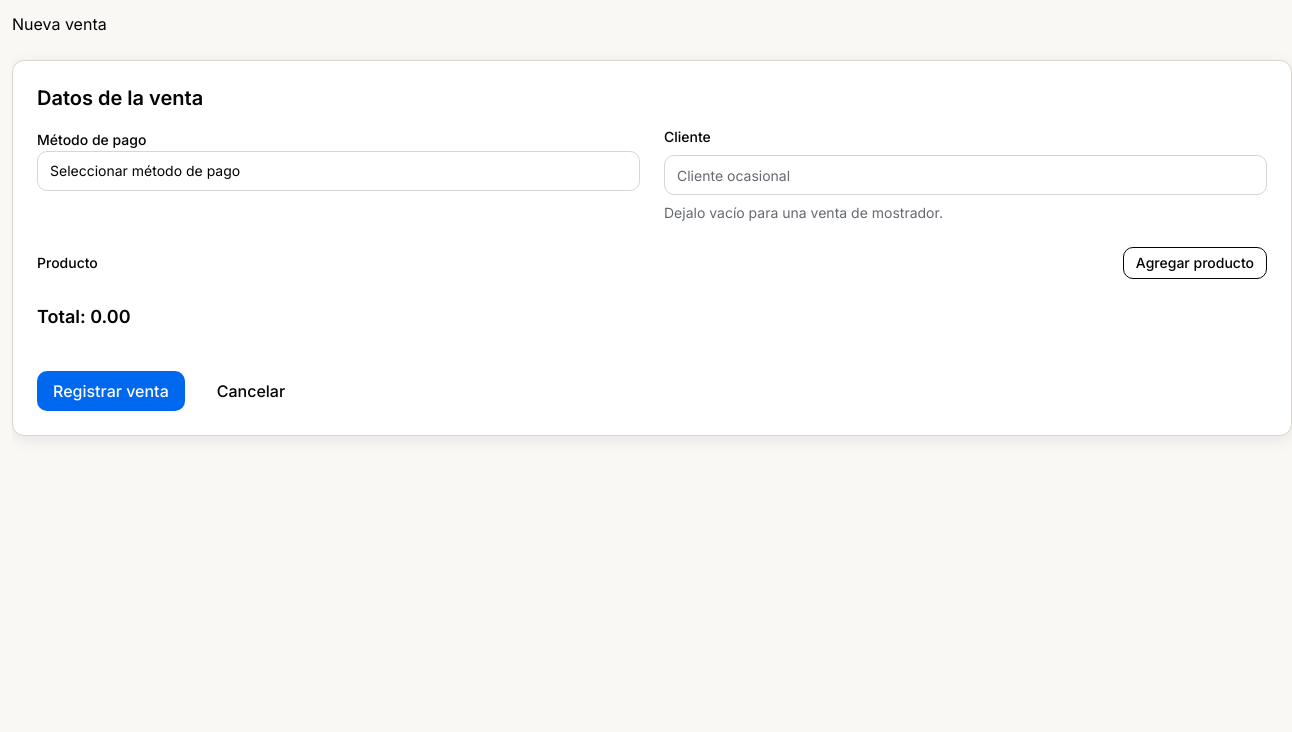
Test: CheckoutPage › S14: maps INSUFFICIENT_STOCK with details to a rich message naming the product
Expected: the button "Agregar producto" is enabled, [1123,247,1267,279]
Select "Efectivo" in the dropdown labelled "Método de pago": (338, 171) [37,151,640,191]
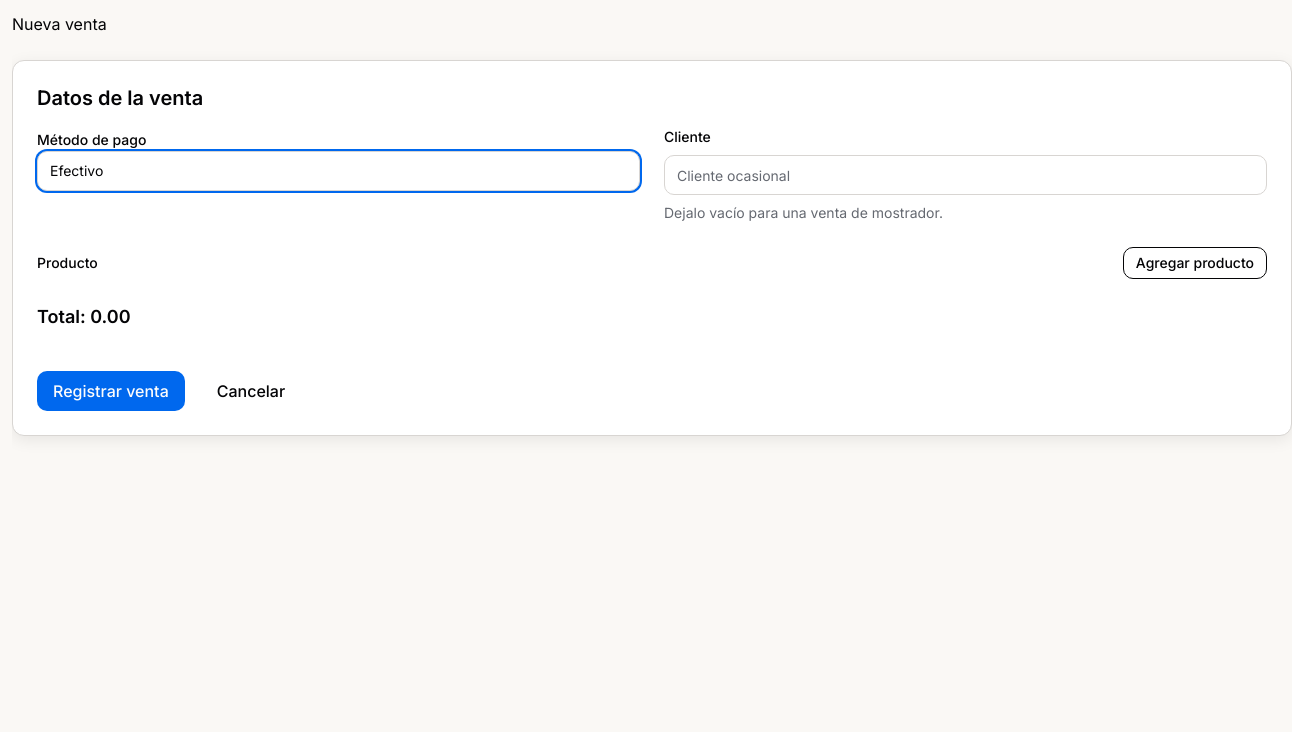
Click the button "Agregar producto": (1195, 263) [1123,247,1267,279]
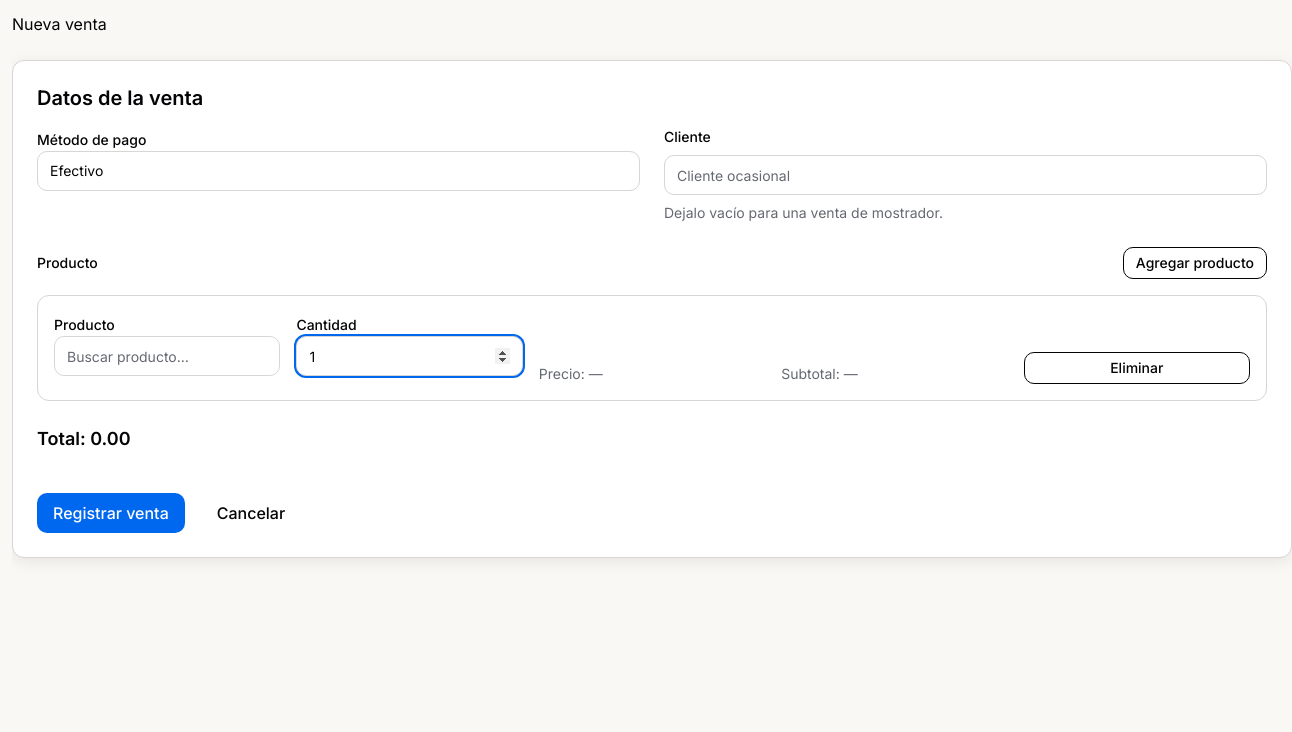
Click the dropdown labelled "Producto": (167, 356) [54,336,280,376]
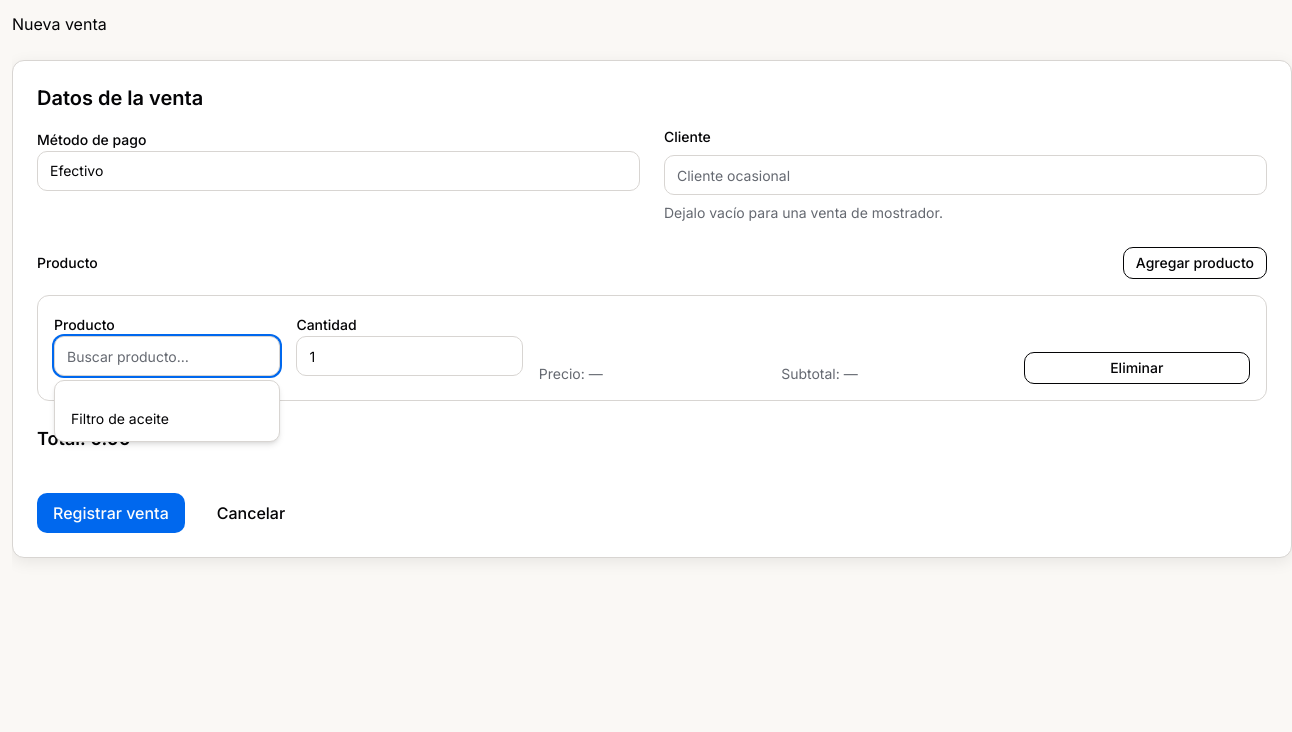
Click the option "Filtro de aceite": (120, 418) [71,410,169,427]
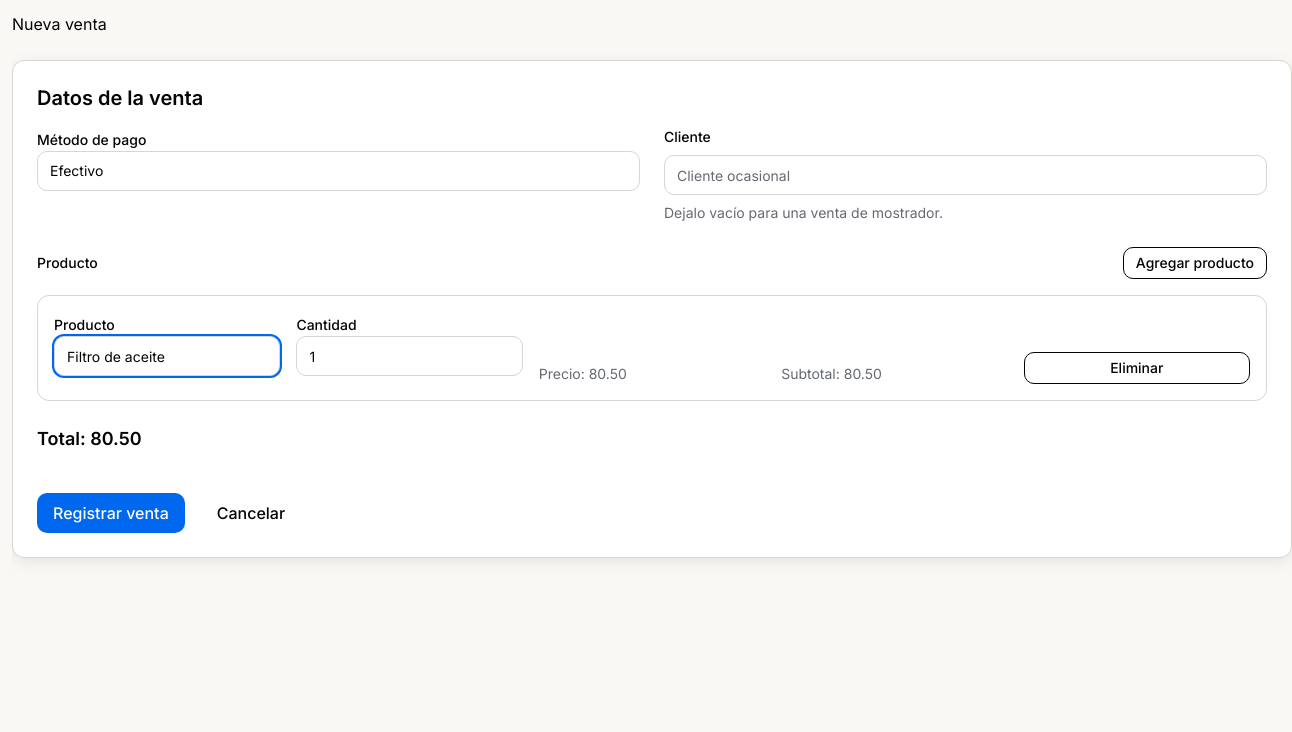
Replace the text in the number field labelled "Cantidad" with "2": (410, 356) [296,336,523,376]
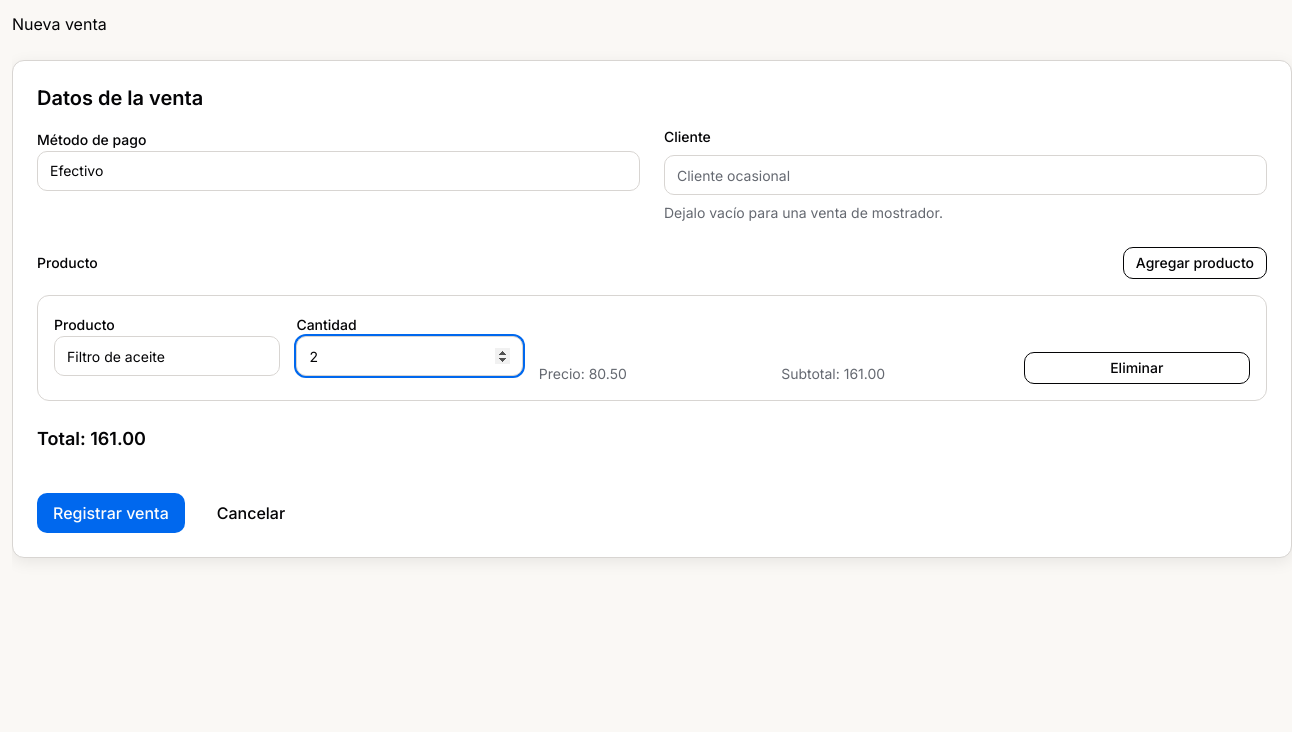
Click the button "Registrar venta": (111, 513) [37,493,185,533]
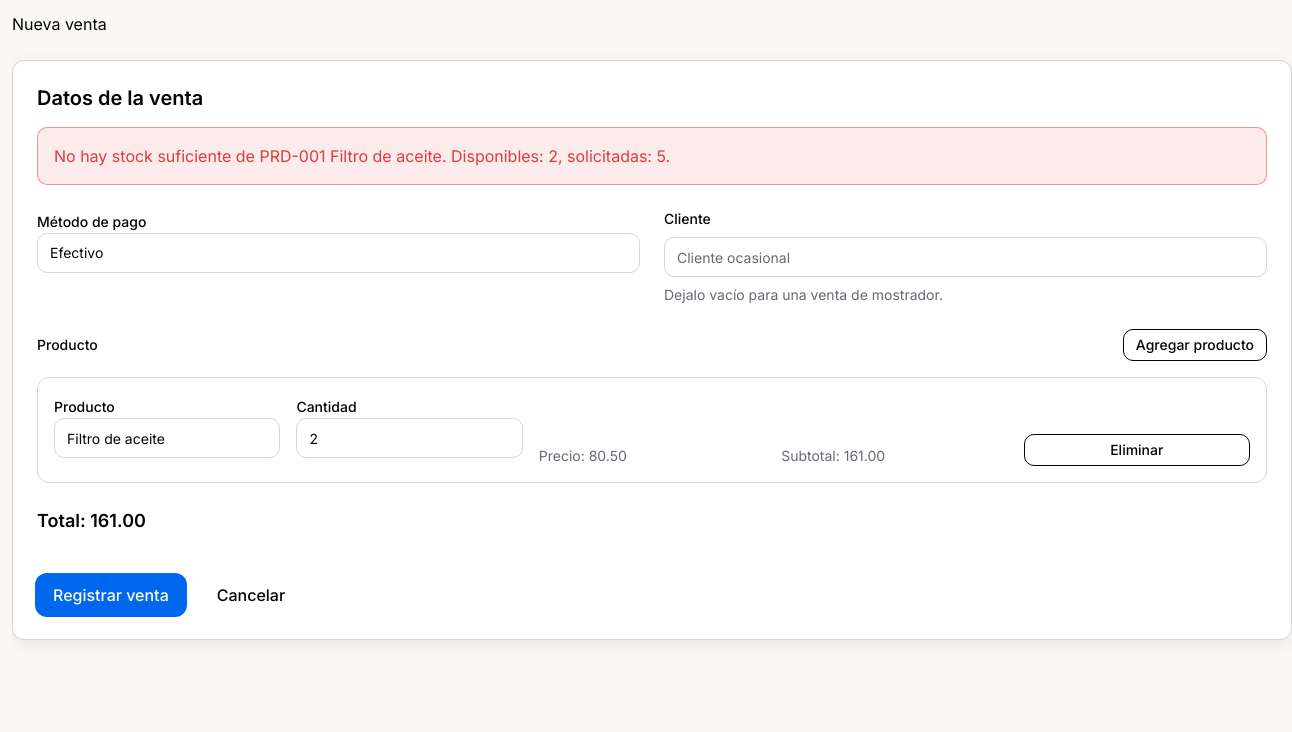
Expected: the message shows "No hay stock suficiente de PRD-001 Filtro de aceite. Disponibles: 2, solicitadas: 5.", [54,146,670,166]
